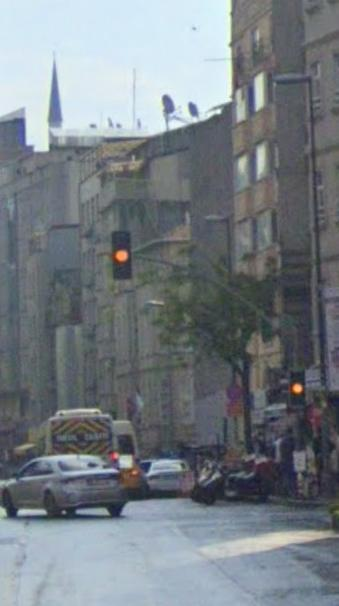yellowlight: (112, 229, 131, 276), (290, 370, 305, 407)
